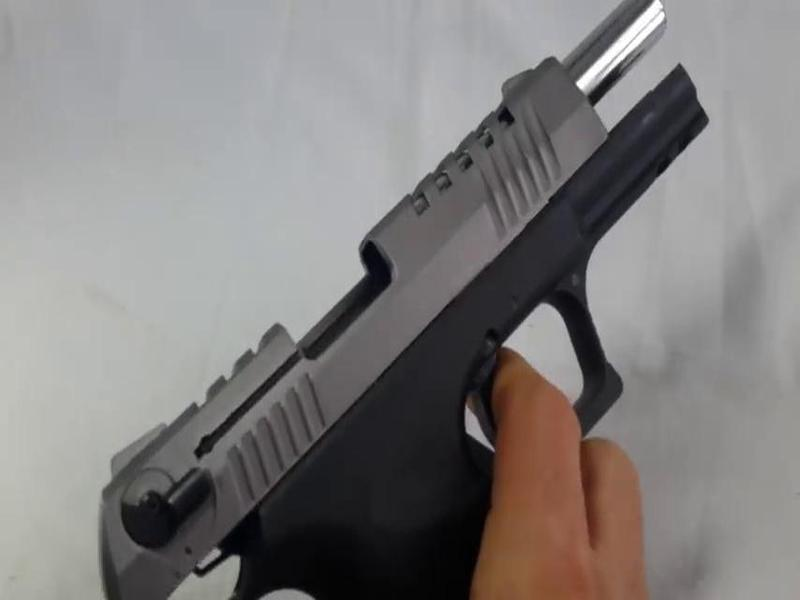Pistola: (102, 1, 707, 587)
